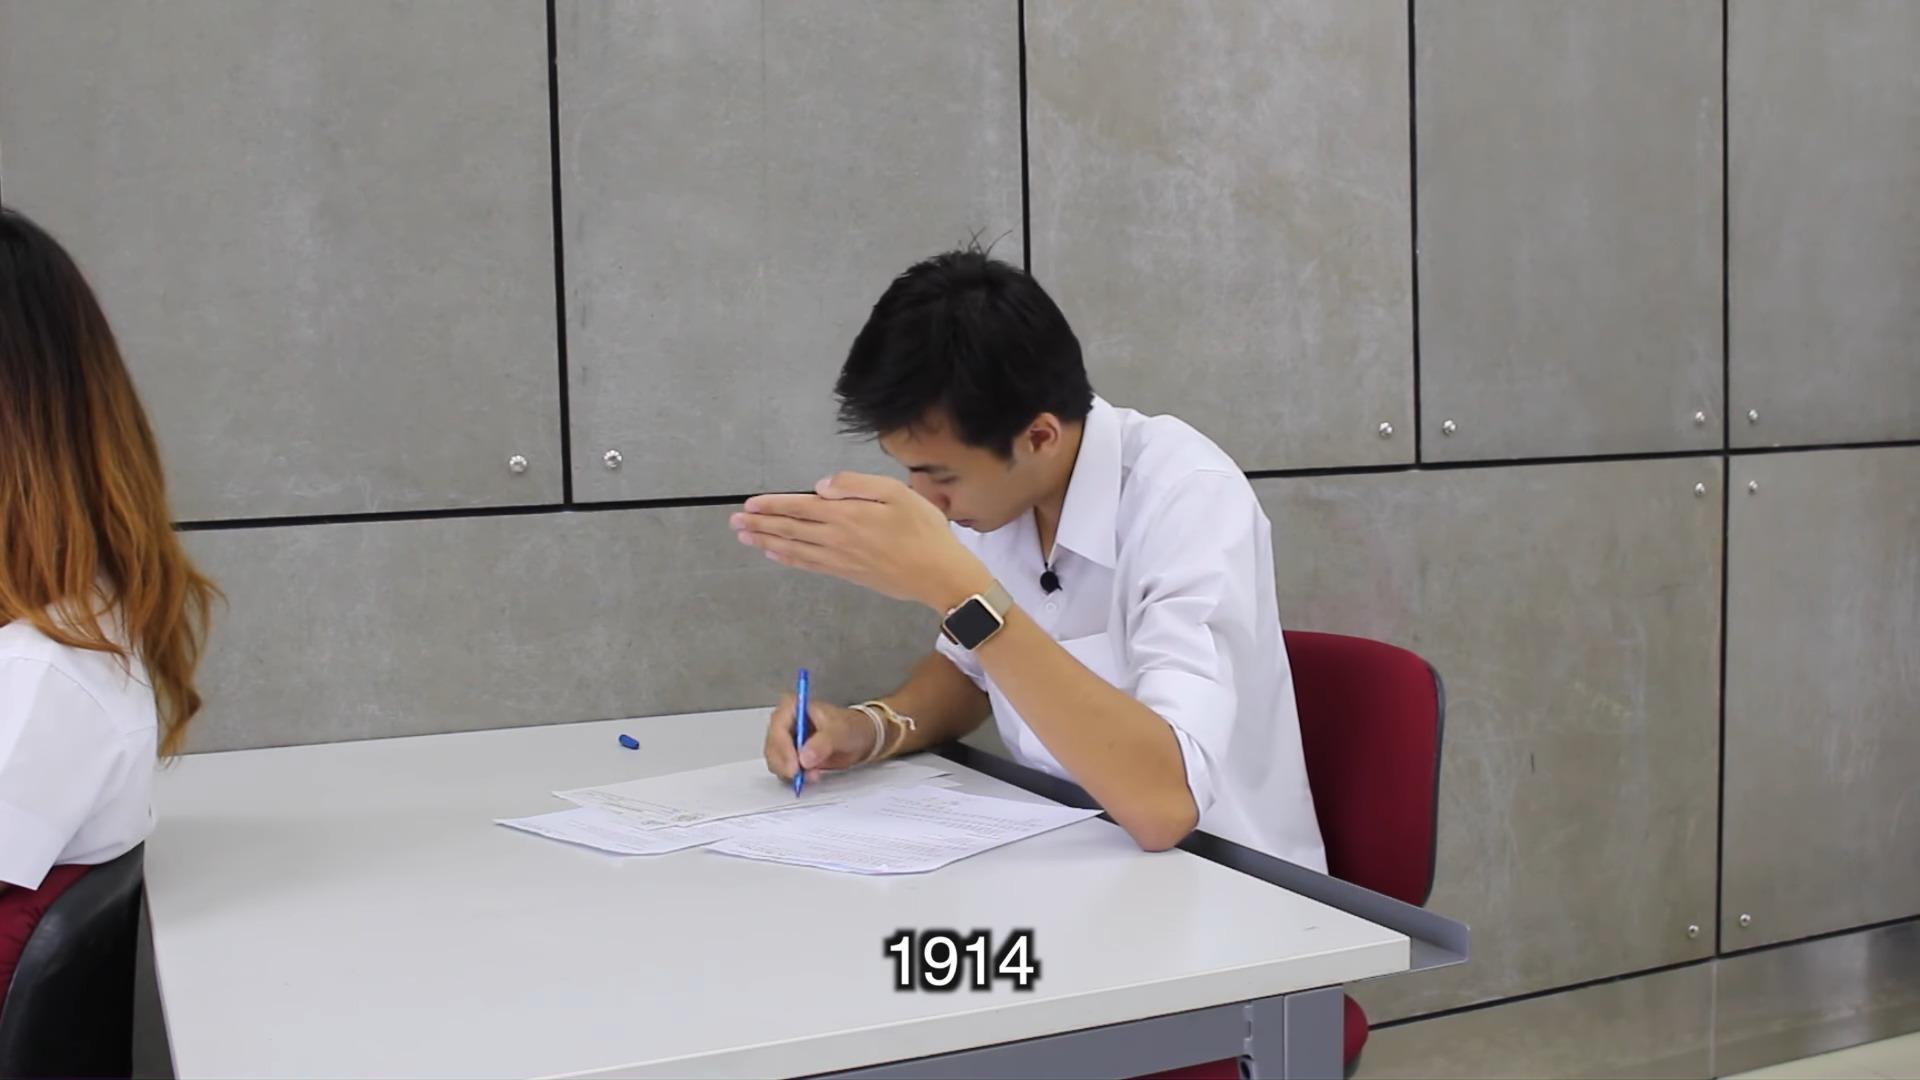cheating: (475, 223, 1366, 919)
